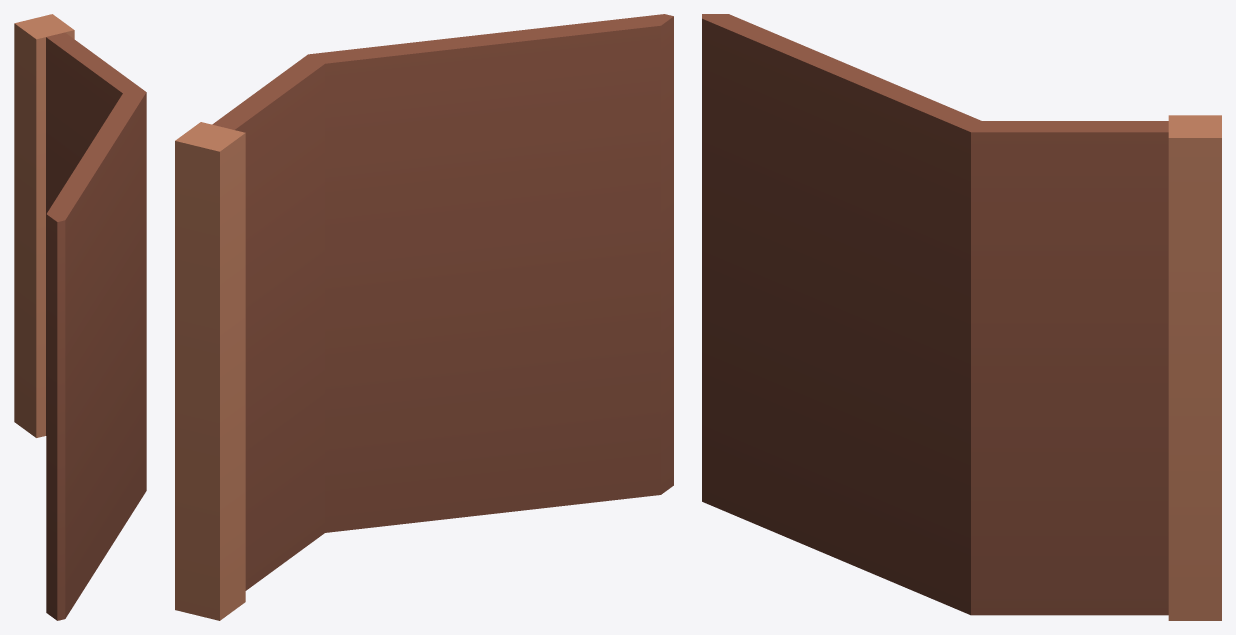
Rendered from wall-kn-wall-wood-corner-diagonal-half.glb.
3 renders of one model, left to right at view 1: azimuth 30°, elevation 25°; view 2: azimuth 150°, elevation 25°; view 3: azimuth 270°, elevation 25°, orthographic. The views are drawn at different scales.
Visible parts, largest first — view 1: wall-wood-corner-diagonal-half; view 2: wall-wood-corner-diagonal-half; view 3: wall-wood-corner-diagonal-half.
Boxes of the visible parts, x1,y1,x2,y2 form: wall-wood-corner-diagonal-half: (14, 14, 146, 620); wall-wood-corner-diagonal-half: (175, 14, 673, 620); wall-wood-corner-diagonal-half: (702, 14, 1221, 620).
Bounding box in the file's own units: 1.65 × 3 × 2.92.
1 material, 1 textured.
